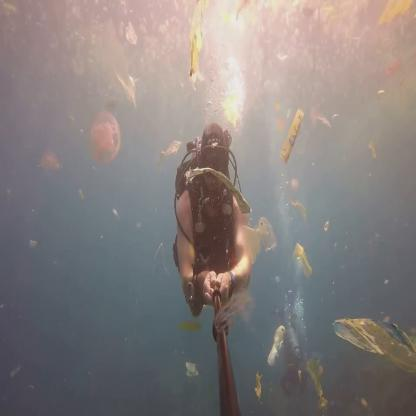Rác: (336, 299, 410, 376), (276, 101, 316, 186), (186, 0, 208, 83), (378, 1, 416, 29), (305, 358, 328, 402), (266, 318, 288, 362), (290, 239, 312, 271), (117, 70, 138, 102), (124, 23, 140, 44), (254, 371, 262, 395)
